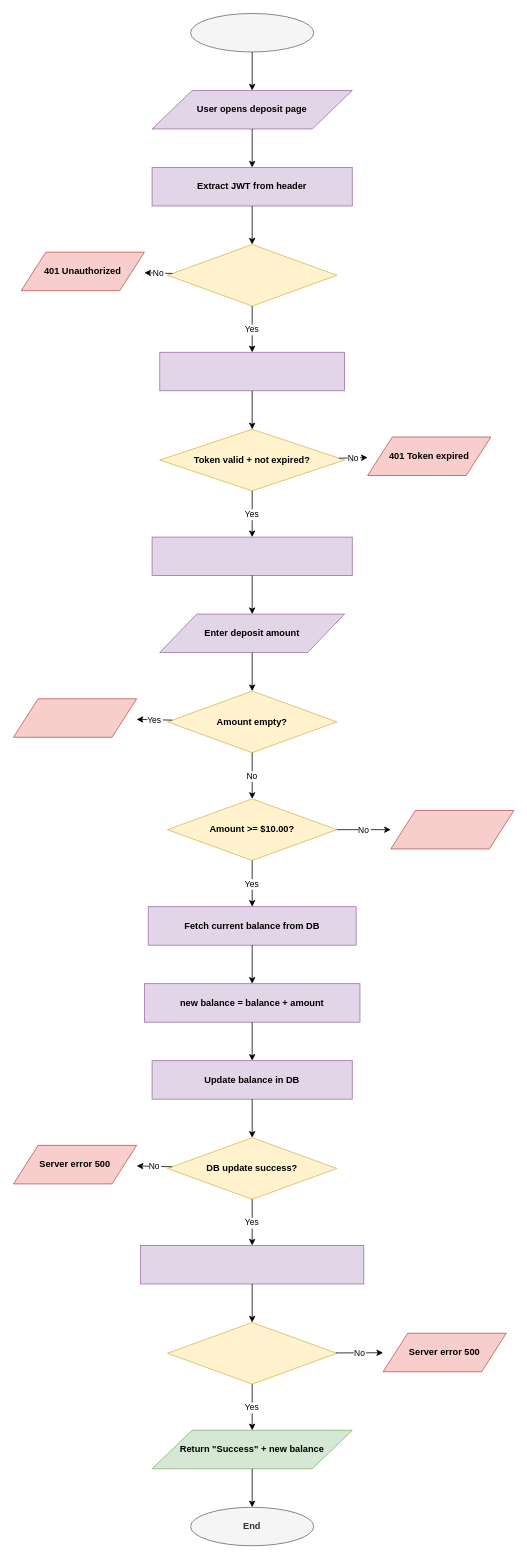
Some shapes in this 527 by 1559 pixel diagram are drawn without their labels. The shapes that lost their labels are listed below. From the top down, each one's box as (x1, y1, x2, y2) in pixels, then its label:
(190, 13, 314, 52): Start
(167, 244, 337, 306): Token present?
(159, 352, 345, 391): Validate JWT signature
(151, 536, 352, 576): Extract user_id from token
(13, 698, 137, 737): Amount required
(390, 810, 514, 849): Minimum $10.00
(140, 1245, 364, 1284): Record DEPOSIT in transactions
(167, 1322, 337, 1384): Record success?
